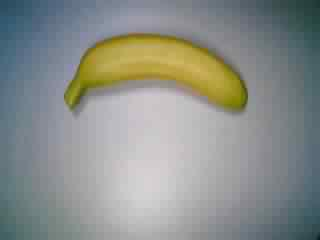banana: (60, 30, 252, 128)
